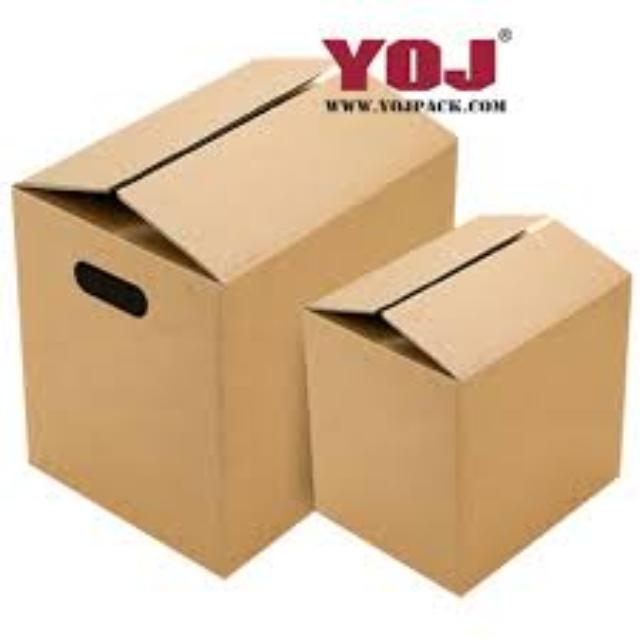cardboard paper: (11, 57, 449, 569), (315, 216, 635, 598)
